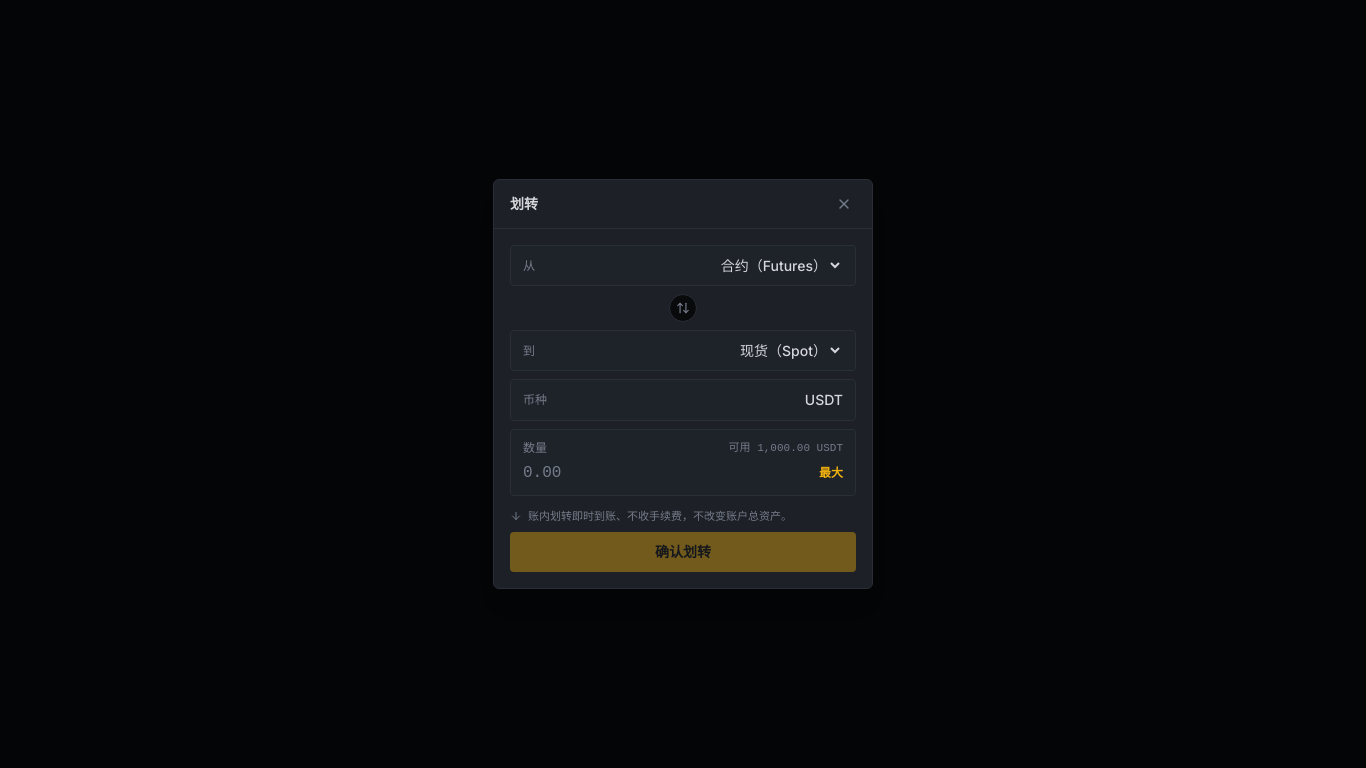
Scenario: TransferDialog › 超额时提示并禁用提交
Later steps or results of the test are not shown.
Type "1000.01" into the number field with test id "transfer-amount" at [667, 472], box [523,460,811,484]
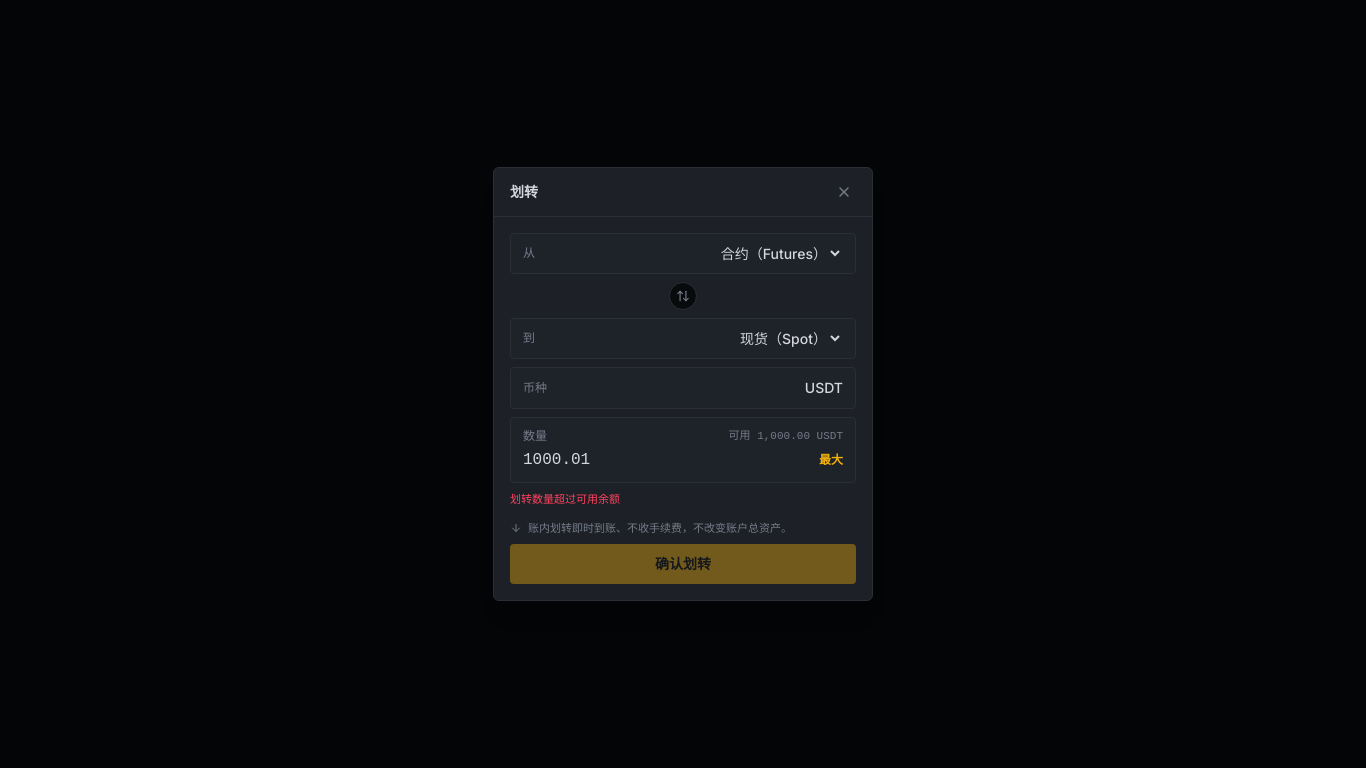
Expected: the button with test id "transfer-submit" is disabled, [510,544,856,584]
Expected: the text with test id "transfer-error" shows "超过可用余额", [510,492,620,506]
